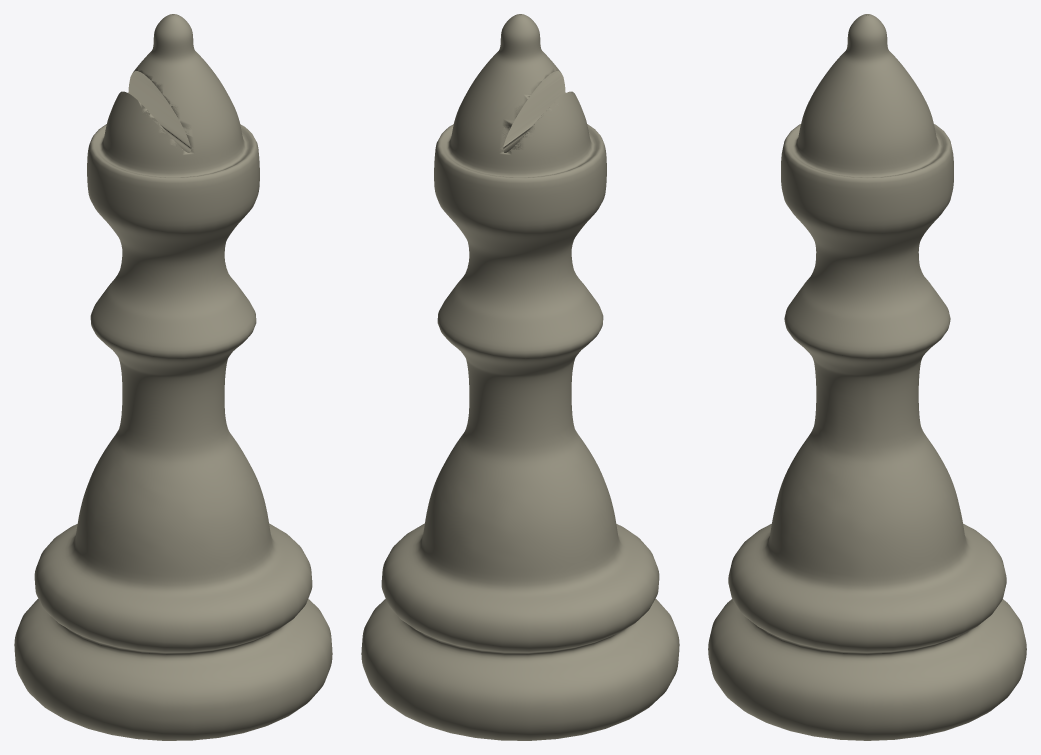
The picture shows the model from 3 angles, left to right: view 1: azimuth 30°, elevation 25°; view 2: azimuth 150°, elevation 25°; view 3: azimuth 270°, elevation 25°; orthographic projection.
Parts seen in each view (by area): view 1: White chess side.002_33; view 2: White chess side.002_33; view 3: White chess side.002_33.
Boxes of the visible parts, x1,y1,x2,y2 form: White chess side.002_33: [14, 14, 332, 740]; White chess side.002_33: [361, 14, 679, 740]; White chess side.002_33: [708, 14, 1026, 740].
Size of the model in its own units: 1.28 by 2.99 by 1.28.
